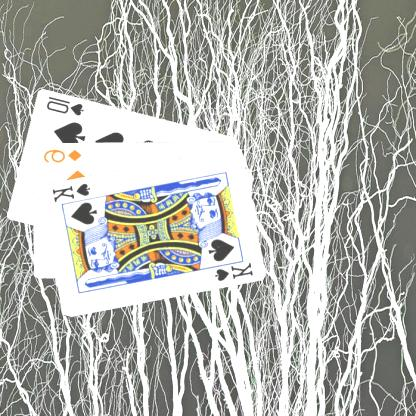10S: (45, 93, 87, 117)
6D: (42, 146, 84, 163)
KS: (208, 256, 256, 282), (50, 180, 93, 203)
